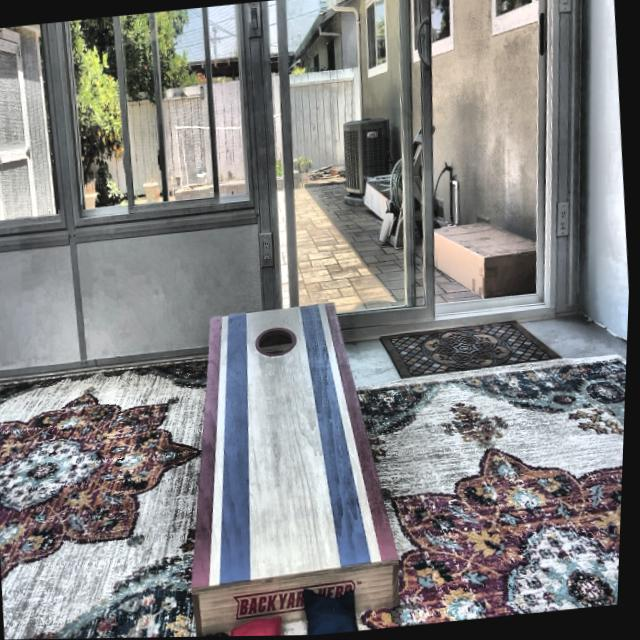blue-bean-bag: (302, 583, 366, 636)
board: (198, 303, 368, 582)
hole: (256, 324, 299, 357)
red-bean-bag: (227, 612, 286, 637)
